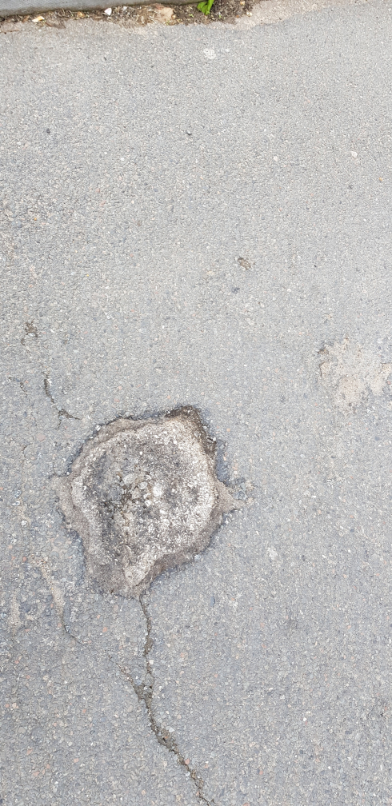pothole: (42, 400, 234, 604)
